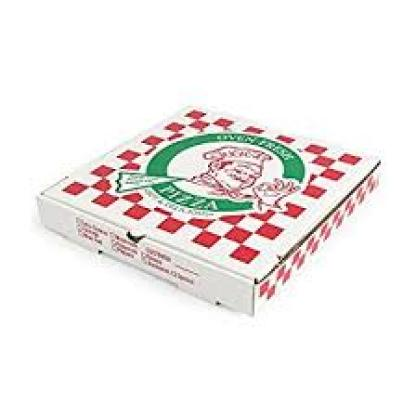Aluminum can: (15, 43, 416, 347)
